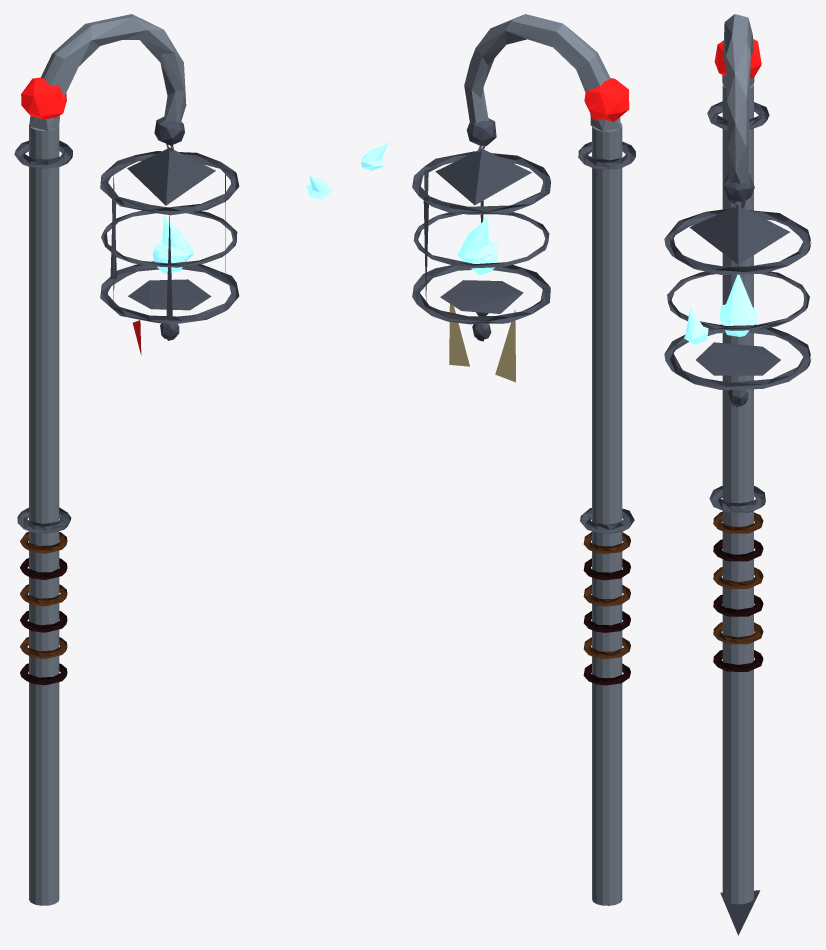
The model's file is lantern_1.glb.
3 views of the same model, side by side, from view 1: azimuth 30°, elevation 25°; view 2: azimuth 150°, elevation 25°; view 3: azimuth 270°, elevation 25° (orthographic). The views are drawn at different scales.
Parts seen in each view (by area): view 1: Staff__001, Staff__002, Lantern__024, Lantern__021, Lantern__022, Lantern__025, Staff__013, Lantern__023, Flame__027, Staff__010, Staff__011; view 2: Staff__001, Staff__002, Lantern__024, Lantern__022, Lantern__021, Lantern__025, Staff__013, Lantern__023, Flame__027, Staff__010, Tags__029, Tags__031 (+2 smaller); view 3: Staff__001, Staff__002, Lantern__024, Lantern__021, Lantern__022, Lantern__025, Lantern__023, Flame__027, Staff__011, Staff__010, Staff__013, Staff__003 (+8 smaller).
Boxes of the visible parts, x1,y1,x2,y2 form: Staff__001: [29, 123, 59, 905]; Staff__002: [29, 14, 186, 130]; Lantern__024: [127, 147, 215, 205]; Lantern__021: [100, 151, 239, 215]; Lantern__022: [100, 261, 239, 324]; Lantern__025: [128, 279, 211, 310]; Staff__013: [21, 77, 66, 119]; Lantern__023: [101, 210, 237, 267]; Flame__027: [153, 215, 194, 262]; Staff__010: [14, 140, 72, 169]; Staff__011: [17, 507, 71, 533]; Staff__001: [592, 122, 622, 905]; Staff__002: [464, 14, 620, 131]; Lantern__024: [435, 148, 531, 204]; Lantern__022: [412, 265, 550, 324]; Lantern__021: [412, 151, 550, 214]; Lantern__025: [440, 280, 523, 313]; Staff__013: [584, 78, 629, 121]; Lantern__023: [413, 212, 549, 268]; Flame__027: [457, 215, 498, 262]; Staff__010: [578, 141, 635, 169]; Tags__029: [495, 309, 515, 382]; Tags__031: [449, 304, 469, 366]; Staff__001: [722, 83, 753, 904]; Staff__002: [722, 14, 754, 184]; Lantern__024: [689, 205, 789, 264]; Lantern__021: [664, 208, 811, 274]; Lantern__022: [664, 324, 811, 389]; Lantern__025: [696, 342, 780, 375]; Lantern__023: [667, 271, 809, 330]; Flame__027: [720, 274, 758, 332]; Staff__011: [709, 486, 765, 512]; Staff__010: [707, 101, 769, 129]; Staff__013: [714, 39, 761, 78]; Staff__003: [722, 174, 754, 201].
Bounding box in the file's own units: 0.4182 × 1.23 × 0.1739.
